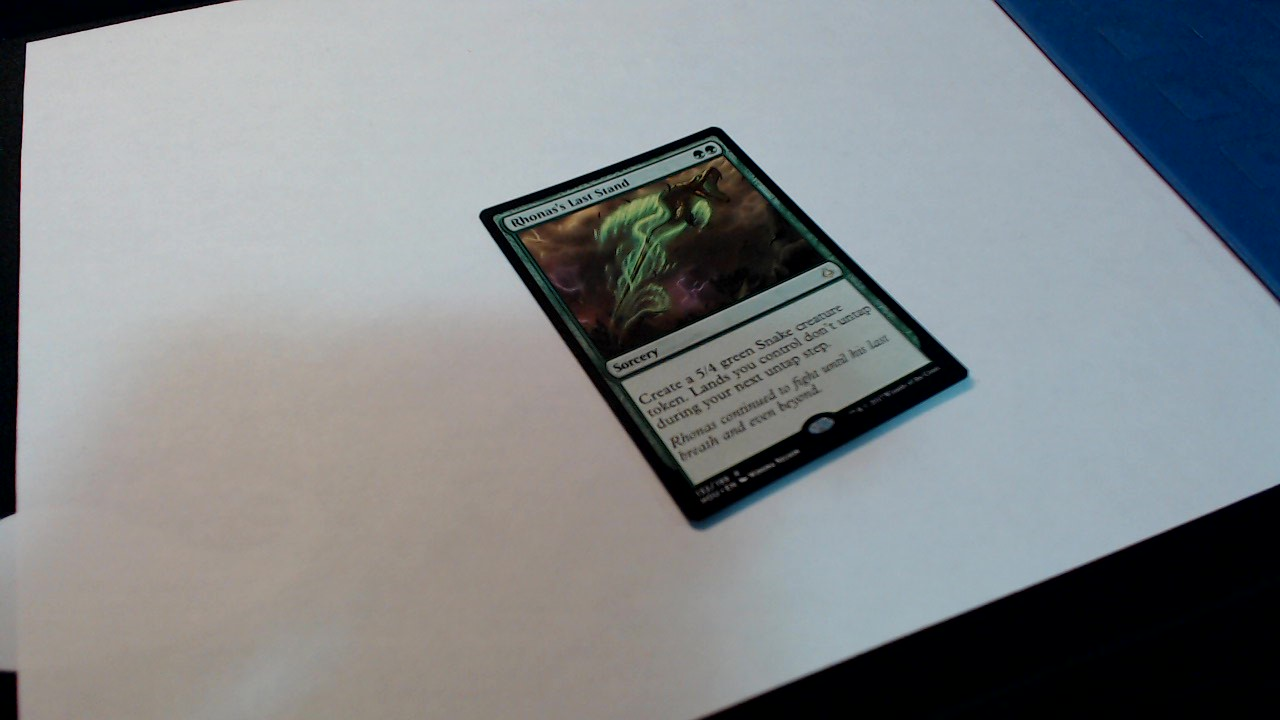MTG Card: (475, 122, 997, 536)
